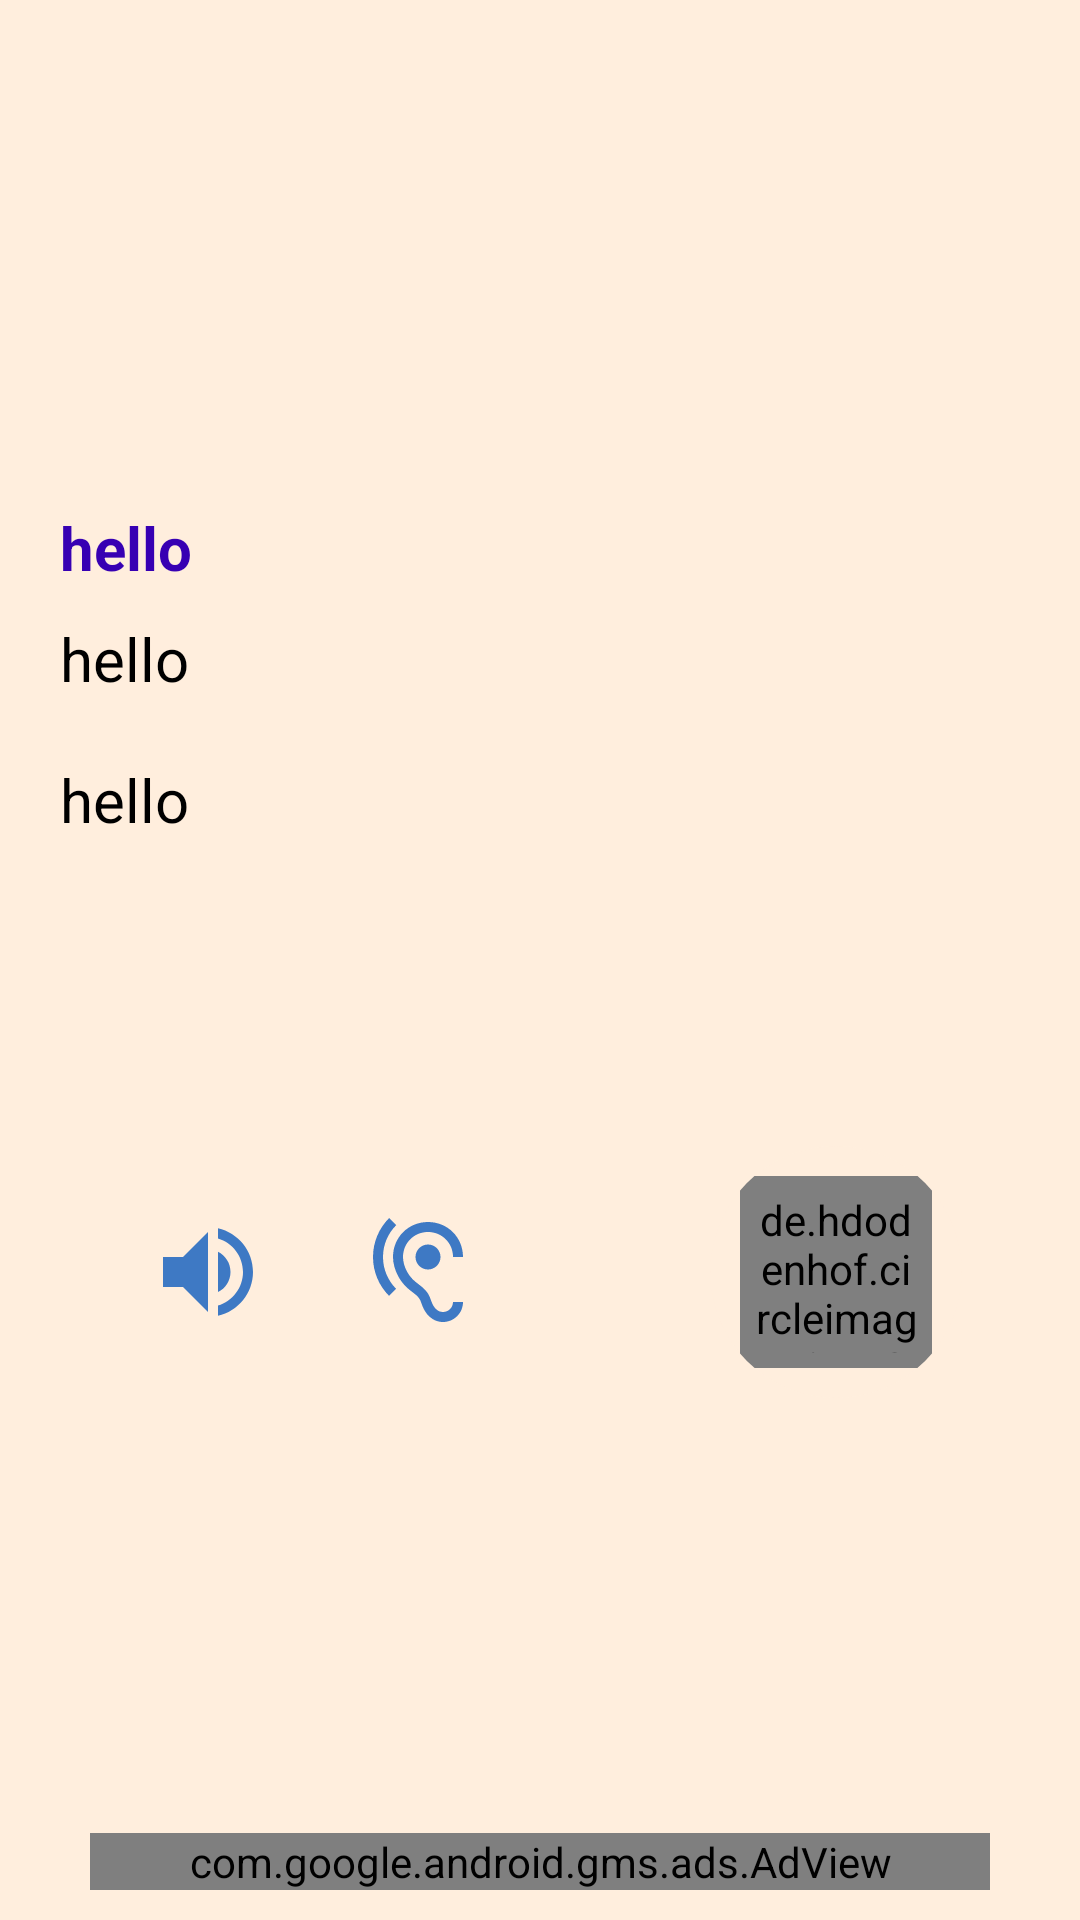

Icon click points for this 1080w x 1920h phone screenshot, format (x=x, y=y):
hearing: (x=418, y=1270)
volume: (x=208, y=1272)
